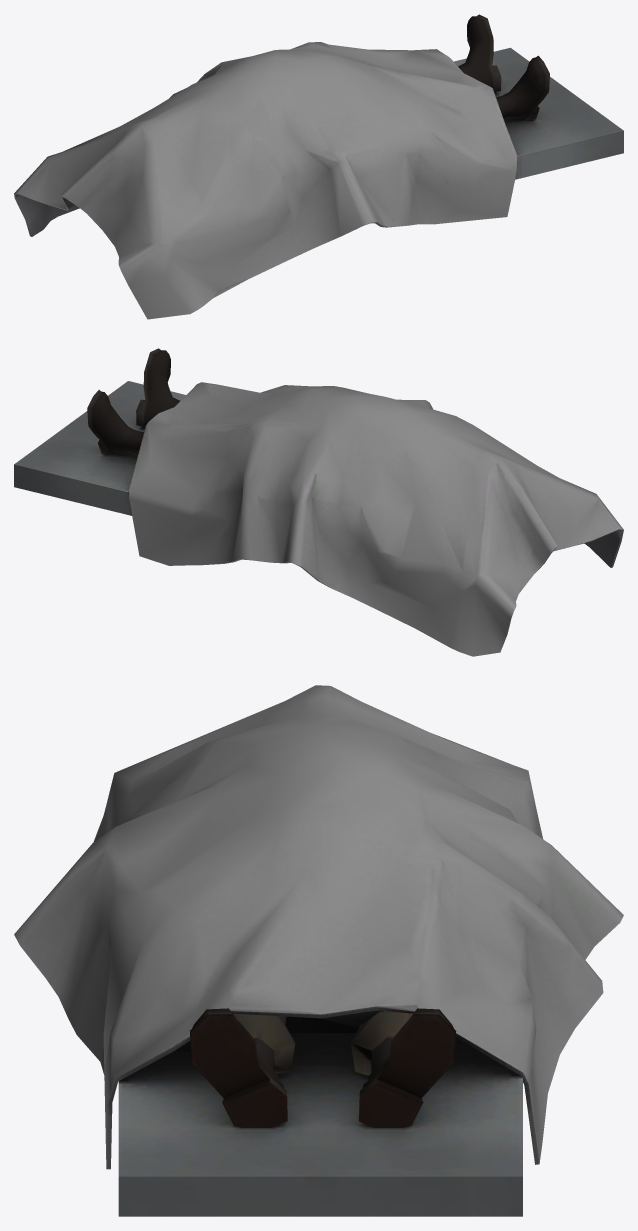
Rendered from med_heavybody001.glb.
3 renders of one model, top to bottom at view 1: azimuth 30°, elevation 25°; view 2: azimuth 150°, elevation 25°; view 3: azimuth 270°, elevation 25°, orthographic. The views are drawn at different scales.
Parts seen in each view (by area): view 1: med_heavybody001; view 2: med_heavybody001; view 3: med_heavybody001.
Boxes of the visible parts, x1=… form: med_heavybody001: x1=14, y1=14, x2=623, y2=319; med_heavybody001: x1=14, y1=348, x2=623, y2=656; med_heavybody001: x1=14, y1=685, x2=623, y2=1216.
Bounding box in the file's own units: 2.14 × 0.7081 × 1.28.
1 material, 1 textured.
